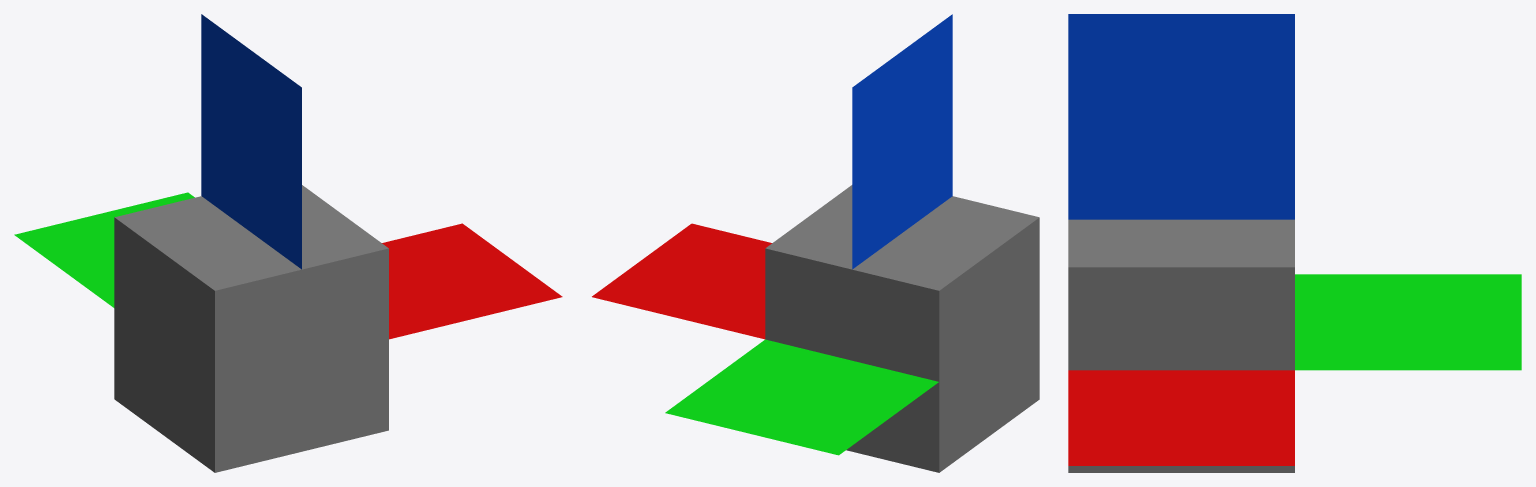
File: 3dalign.glb
3 renders of one model, left to right at view 1: azimuth 30°, elevation 25°; view 2: azimuth 150°, elevation 25°; view 3: azimuth 270°, elevation 25°, orthographic. The views are drawn at different scales.
Visible parts, largest first — view 1: Cube, Plane.002, Plane.001, Plane; view 2: Cube, Plane.002, Plane, Plane.001; view 3: Plane.002, Cube, Plane, Plane.001.
Part boxes in pixels (x1,y1,x2,y2): Cube: [114, 185, 388, 472]; Plane.002: [201, 14, 301, 269]; Plane.001: [382, 223, 562, 339]; Plane: [14, 192, 194, 307]; Cube: [765, 185, 1039, 472]; Plane.002: [852, 14, 952, 269]; Plane: [665, 339, 938, 455]; Plane.001: [592, 223, 771, 339]; Plane.002: [1068, 14, 1294, 219]; Cube: [1068, 219, 1294, 472]; Plane: [1295, 274, 1521, 370]; Plane.001: [1068, 370, 1294, 465].
Size of the model in its own units: 2 by 2 by 2.
